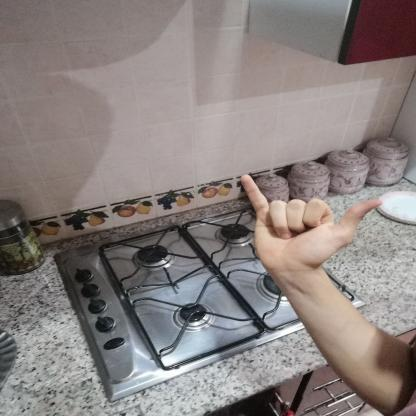YA: (224, 165, 392, 278)
